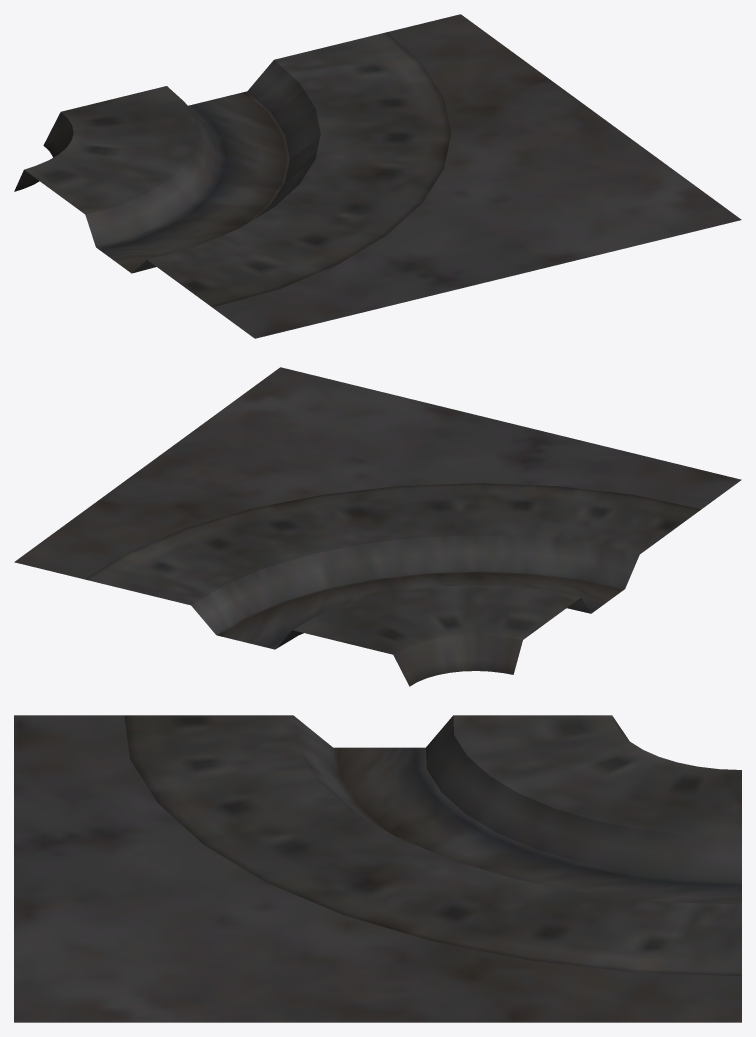
Rendered from lab_floor_welder_concave_90_tiny_noyellow.dae.
3 renders of one model, top to bottom at view 1: azimuth 30°, elevation 25°; view 2: azimuth 150°, elevation 25°; view 3: azimuth 270°, elevation 25°, orthographic. The views are drawn at different scales.
Visible parts, largest first — view 1: floor_welder_concave_90_tiny_noyellow; view 2: floor_welder_concave_90_tiny_noyellow; view 3: floor_welder_concave_90_tiny_noyellow.
Boxes of the visible parts, <box> form: floor_welder_concave_90_tiny_noyellow: <box>14,14,741,338</box>; floor_welder_concave_90_tiny_noyellow: <box>14,367,741,686</box>; floor_welder_concave_90_tiny_noyellow: <box>14,715,741,1022</box>.
Size of the model in its own units: 0.4375 by 0.0254 by 0.4375.
